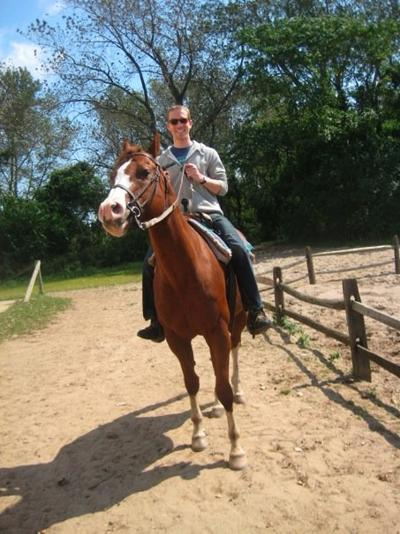person: (134, 102, 271, 341)
